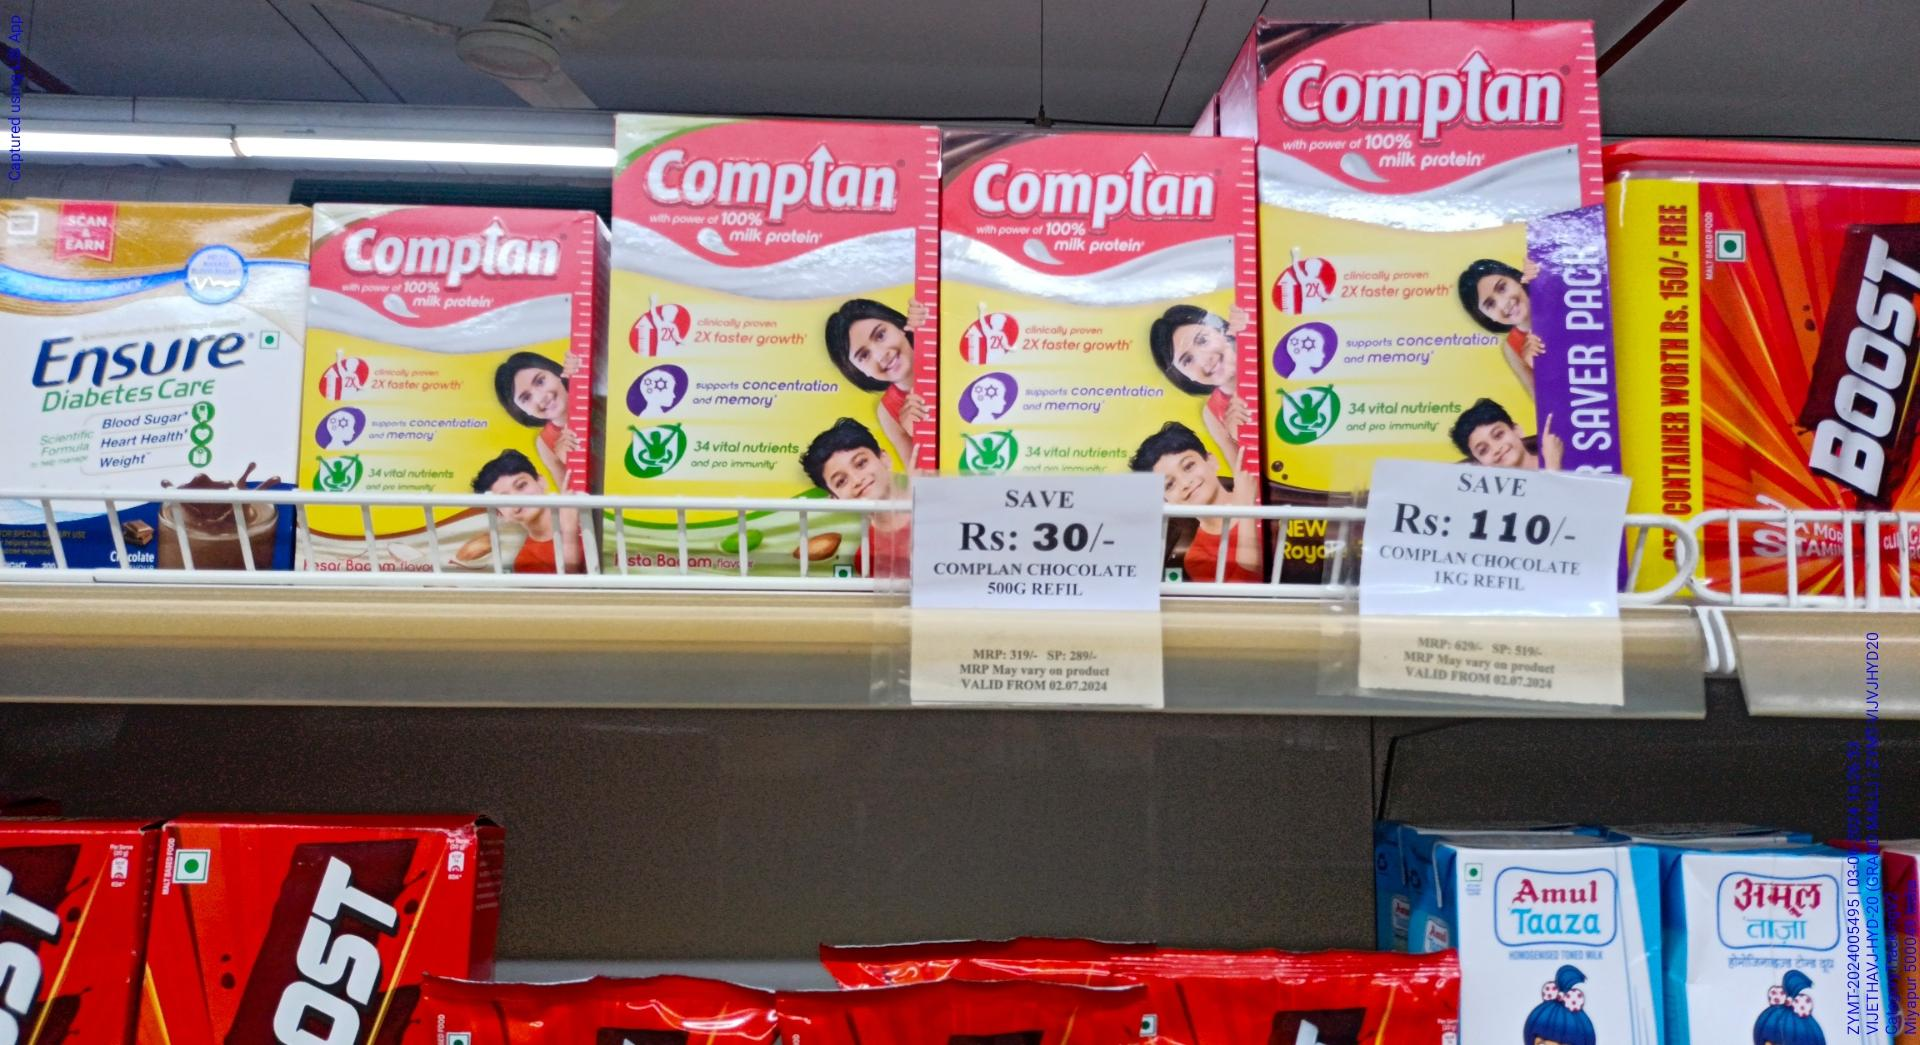COMPLAN_CHOCOLATE_1_KG_PACK: (1260, 27, 1618, 459)
COMPLAN_CHOCOLATE_500_GMS_PACK: (939, 129, 1256, 463)
COMPLAN_KESAR_BADAM_200_GMS_PACK: (309, 208, 592, 574)
COMPLAN_PISTA_BADAM_500_GMS_PACK: (606, 112, 924, 575)
